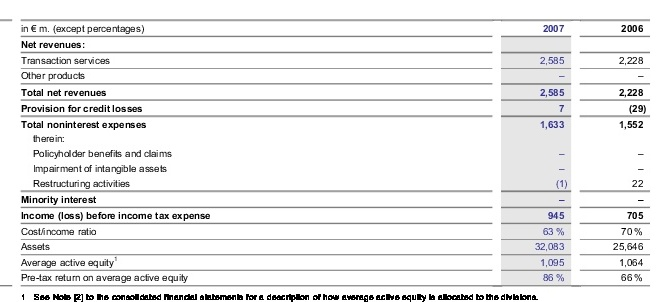table: (0, 0, 672, 302)
